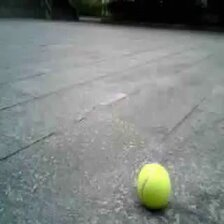tennis: (137, 164, 171, 206)
